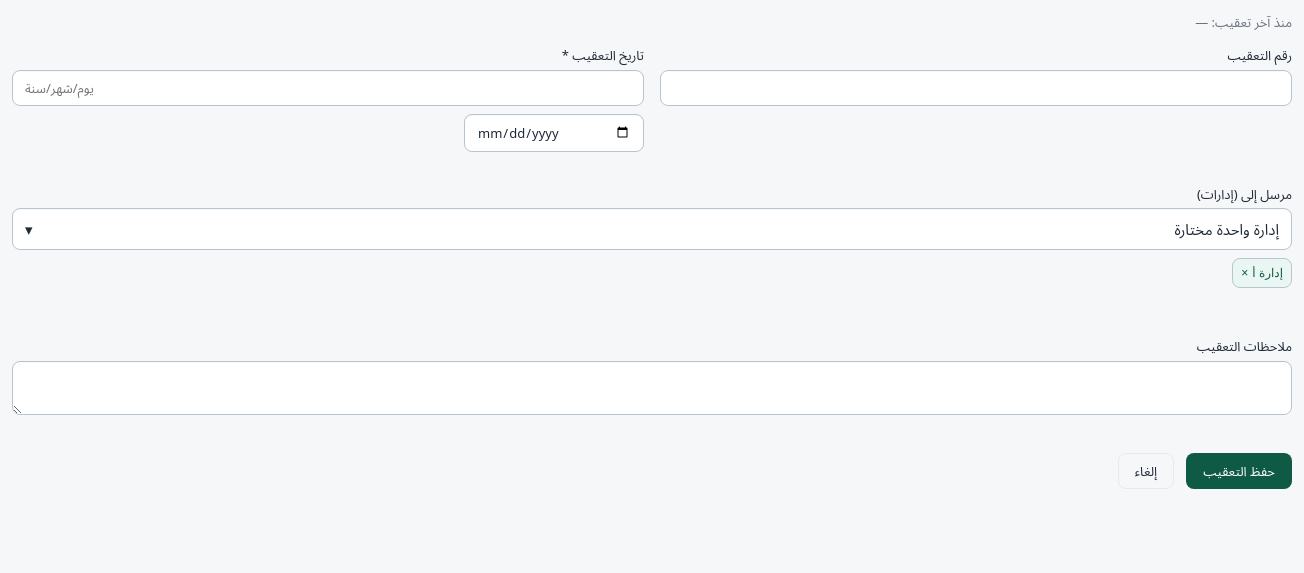
FollowUpFormPanel › does not submit without a follow-up date
Click the button "حفظ التعقيب". click: coordinates (1239, 471)
box: [1186, 453, 1292, 489]
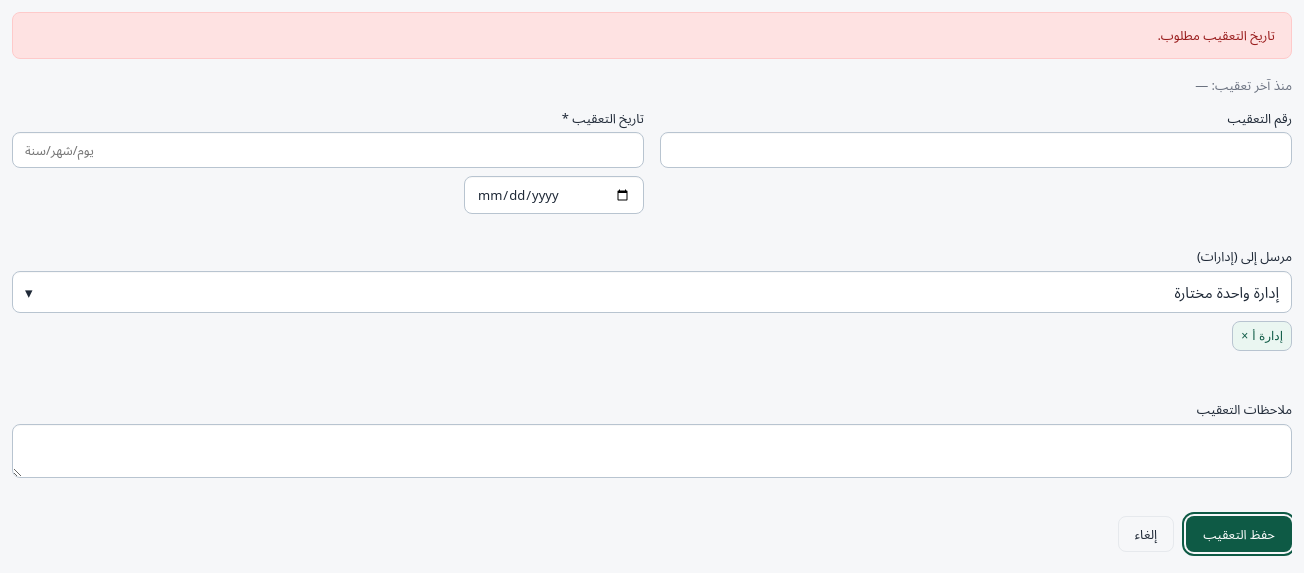
Now the text "تاريخ التعقيب مطلوب." is shown, box [12, 12, 1292, 59]
